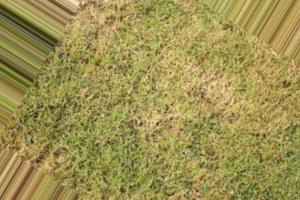patch: (97, 10, 148, 49), (198, 68, 235, 108), (131, 108, 164, 131)
